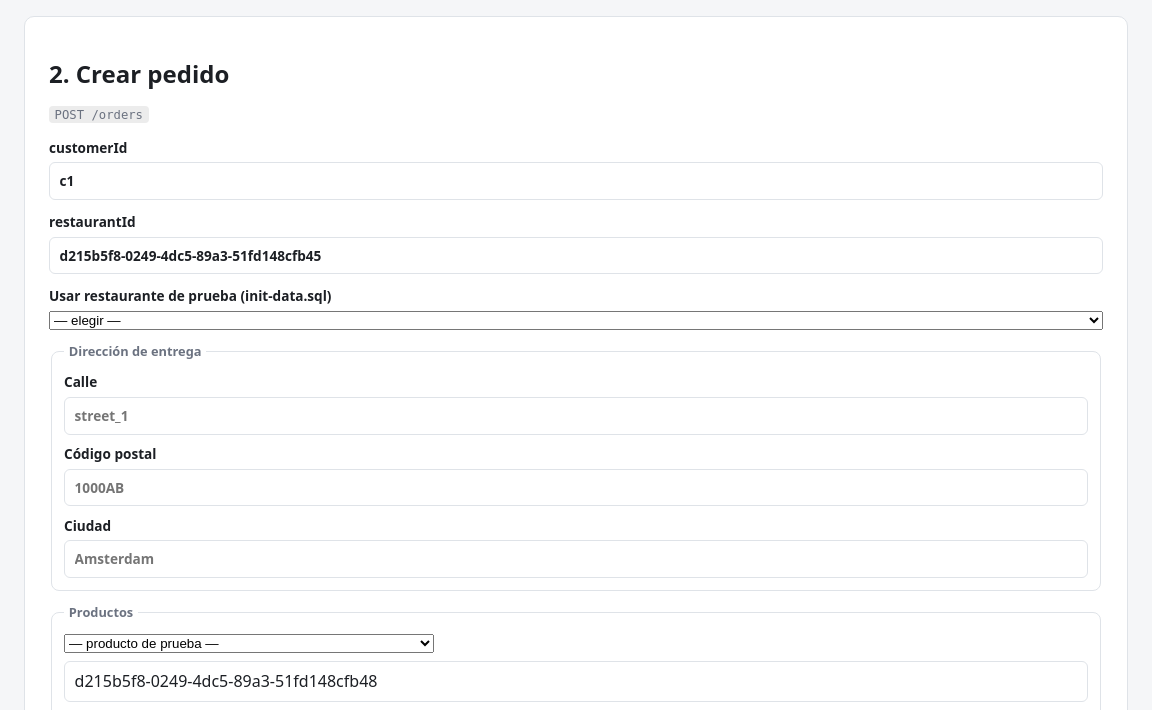
Test: CreateOrderForm › picking a seed product for a row fills in its productId and auto-fills its price
Select "restaurant_2 (inactivo) · product_4 · $40.00" in the dropdown named "Producto de prueba" at (249, 643), box [64,634,434,653]
(page scrolled)
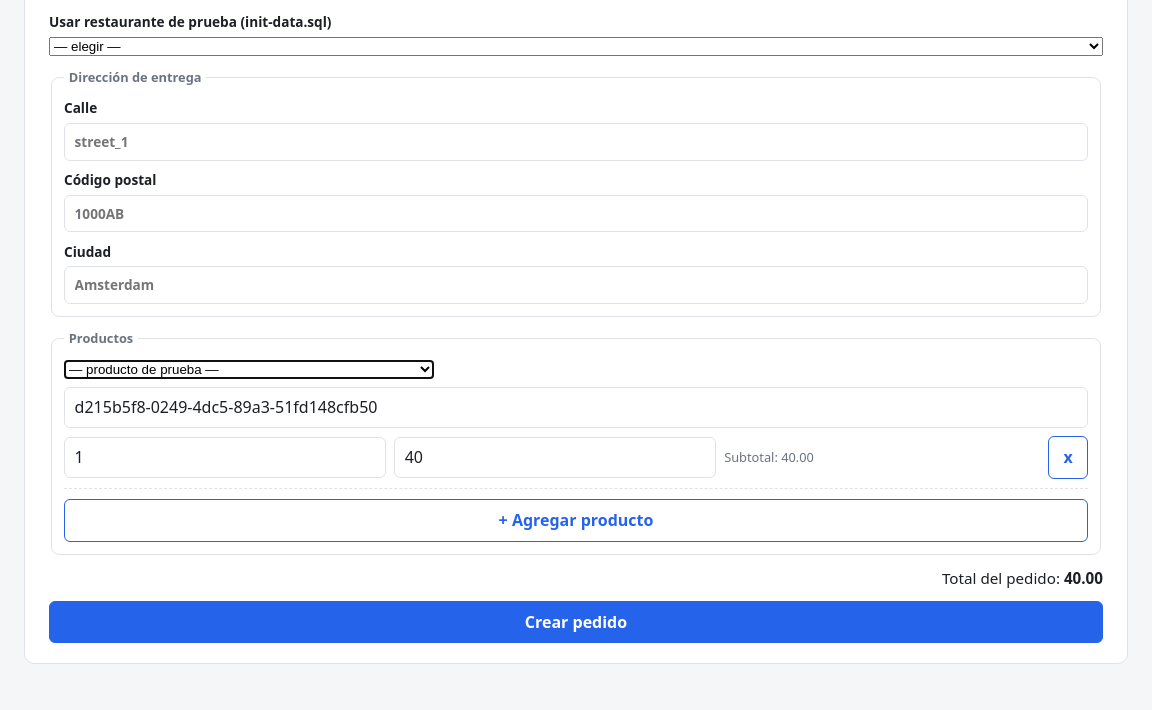
Now the field with placeholder "productId (UUID)" holds "d215b5f8-0249-4dc5-89a3-51fd148cfb50", box [64,387,1088,428]
Now the 2nd number field with placeholder "precio unitario" holds "40", box [394,437,716,478]
Now the text "40.00" next to "Subtotal:" is shown, box [781,448,814,466]
